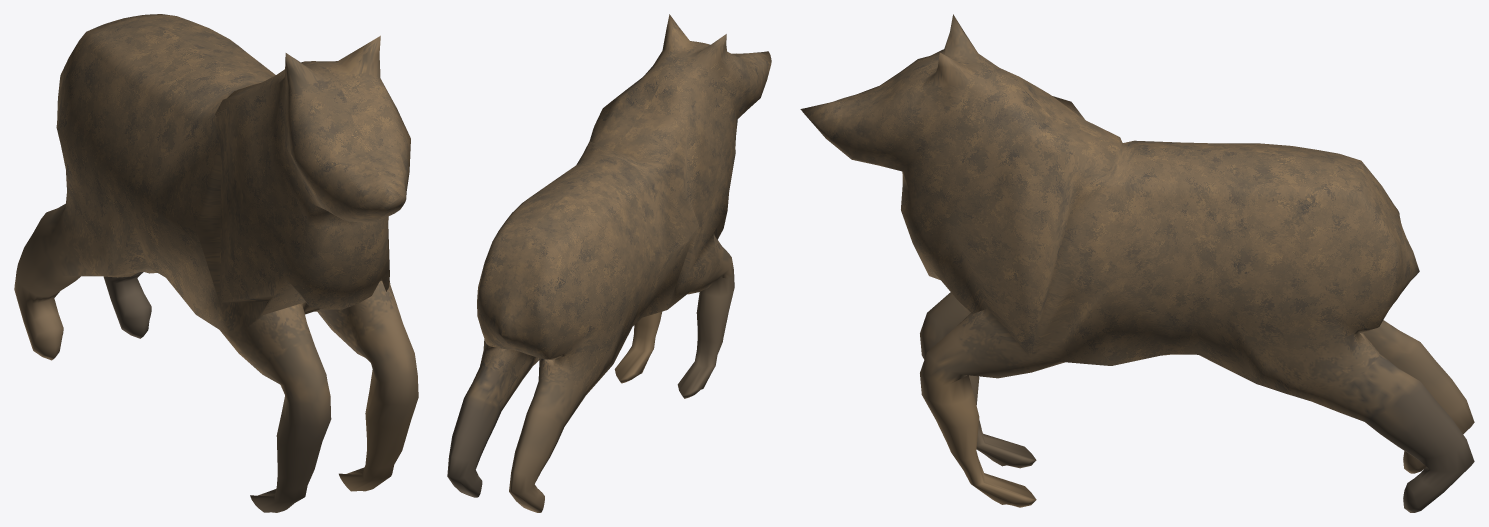
The model's file is piesblend_000009.obj.
The picture shows the model from 3 angles, left to right: view 1: azimuth 30°, elevation 25°; view 2: azimuth 150°, elevation 25°; view 3: azimuth 270°, elevation 25°; orthographic projection. The views are drawn at different scales.
Visible parts, largest first — view 1: Cube; view 2: Cube; view 3: Cube.
Boxes of the visible parts, left/top/right/bottom form: Cube: left=14, top=14, right=418, bottom=512; Cube: left=447, top=14, right=771, bottom=512; Cube: left=800, top=14, right=1474, bottom=512.
Bounding box in the file's own units: 2.55 × 6.71 × 9.05.
Materials: 1 (1 with a texture image).
